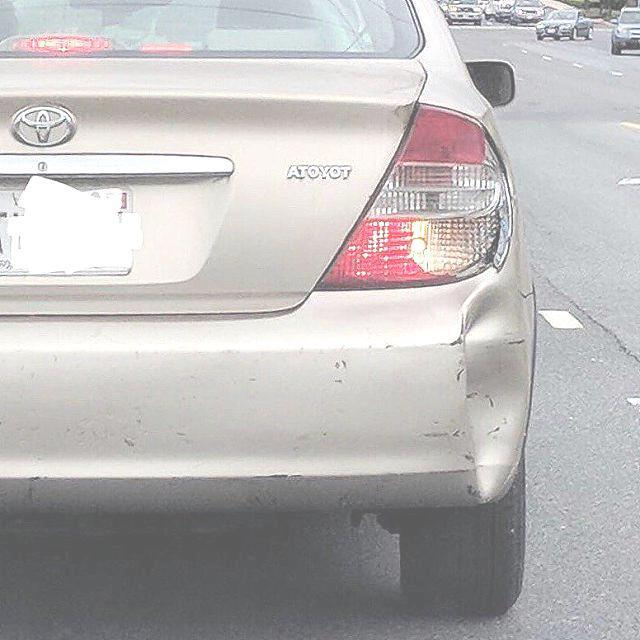minor: (85, 425, 200, 460), (414, 431, 461, 447), (332, 359, 350, 386)
moderate: (324, 107, 512, 285), (460, 284, 525, 503)
